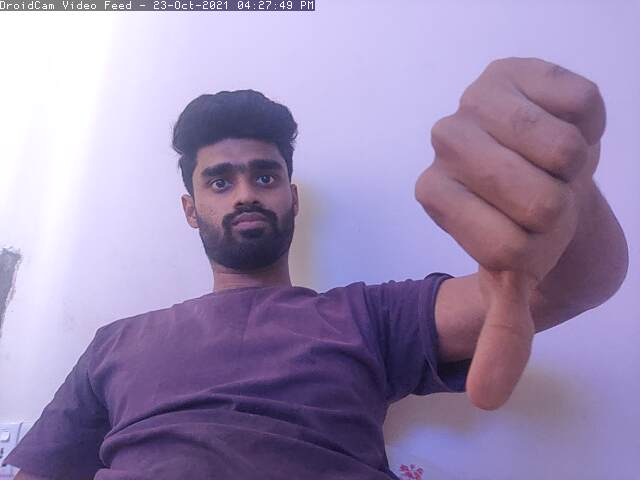ThumbsDown: (414, 51, 625, 410)
